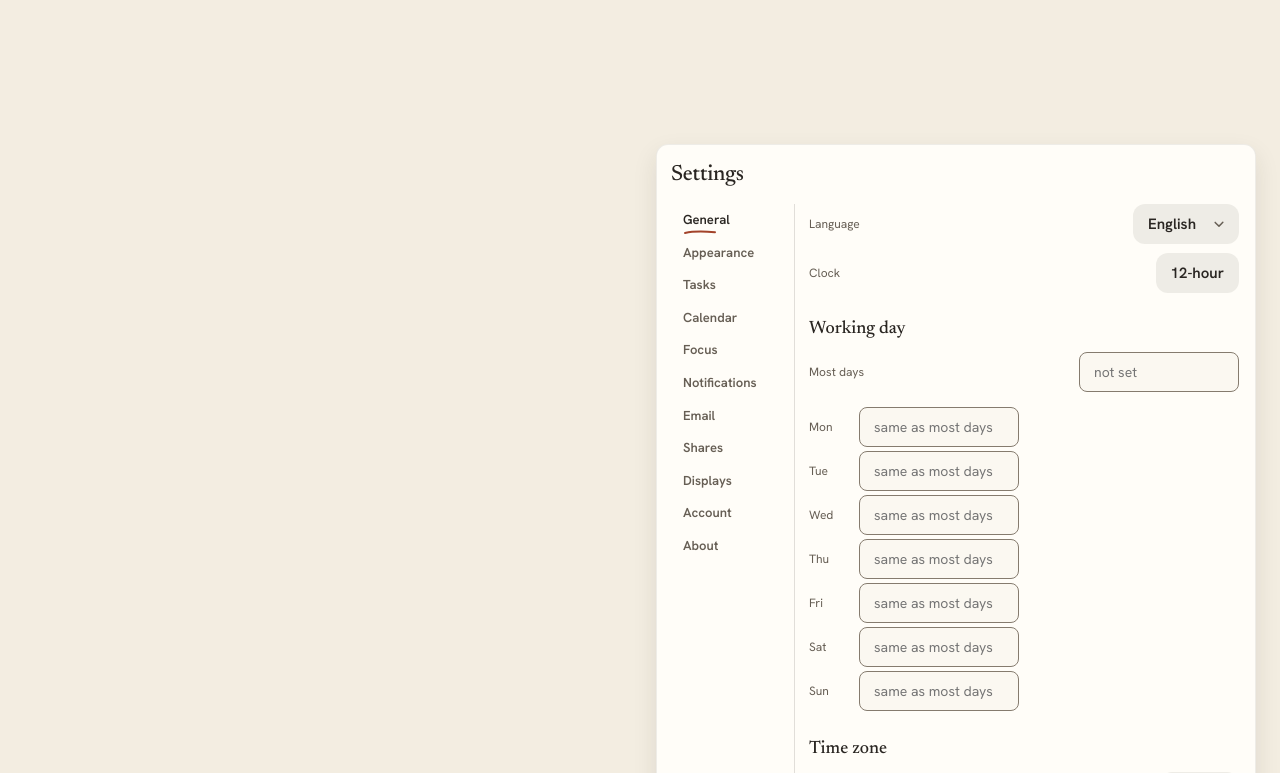
Test: <SettingsMenu> under Field notes › removes the Account line and keeps the one that revokes access
(page scrolled)
Click the tab "Account" at [728, 513], box left=671, top=497, right=786, bottom=529
(page scrolled)
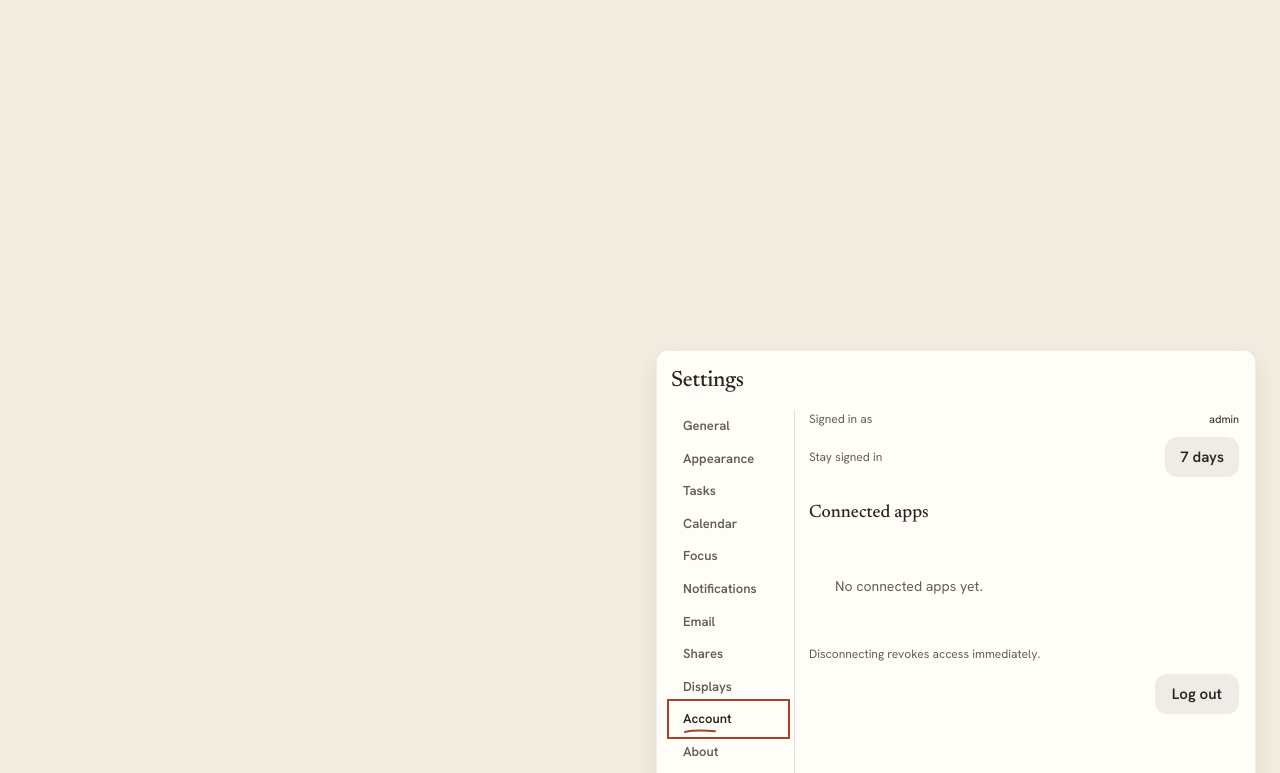
Result: the text "Disconnecting revokes access immediately." is shown at left=809, top=646, right=1040, bottom=662
Result: the button "Log out" is shown at left=1155, top=674, right=1239, bottom=714
